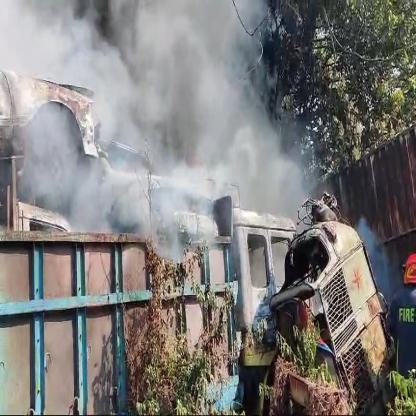Smoke: (0, 0, 313, 260)
